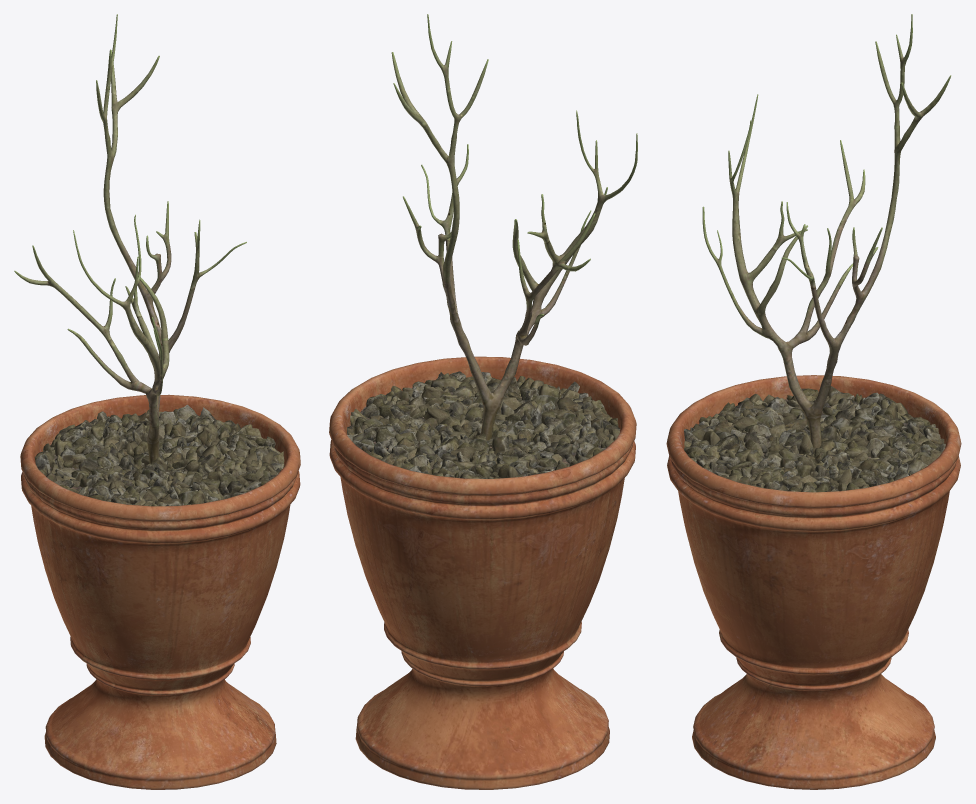
Rendered from potted_plant_01_v1_bark.gltf.
3 views of the same model, side by side, from view 1: azimuth 30°, elevation 25°; view 2: azimuth 150°, elevation 25°; view 3: azimuth 270°, elevation 25° (orthographic). The views are drawn at different scales.
Visible parts, largest first — view 1: potted_plant_01_v1_bark; view 2: potted_plant_01_v1_bark; view 3: potted_plant_01_v1_bark.
Boxes of the visible parts, box(x1,y1,x2,y2) form: potted_plant_01_v1_bark: box(14, 14, 300, 789); potted_plant_01_v1_bark: box(329, 14, 637, 789); potted_plant_01_v1_bark: box(666, 14, 961, 789).
Bounding box in the file's own units: 0.4677 × 1.27 × 0.4662.
1 material, 1 textured.
